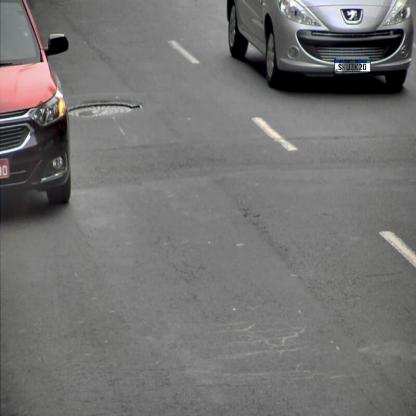PlacaM: (334, 60, 371, 72)
